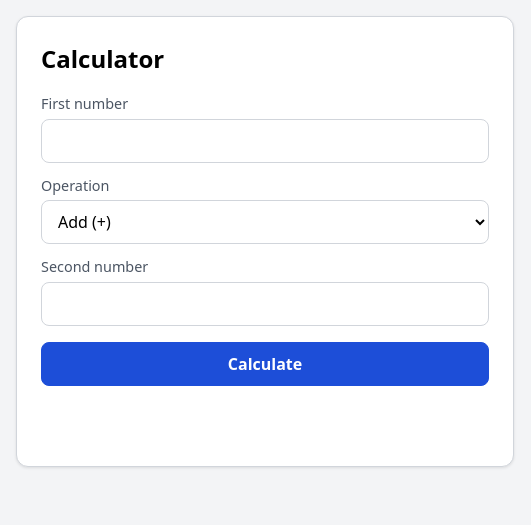
Test case: shows a user-facing message for API error DIVISION_BY_ZERO
The width and height of the screenshot is (531, 525).
Type "1" into the field labelled "First number" at (265,141), box [41,119,489,163]
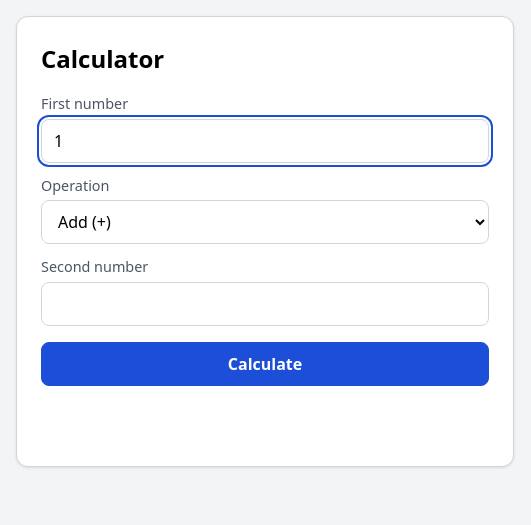
Type "0" into the field labelled "Second number" at (265,304), box [41,282,489,326]
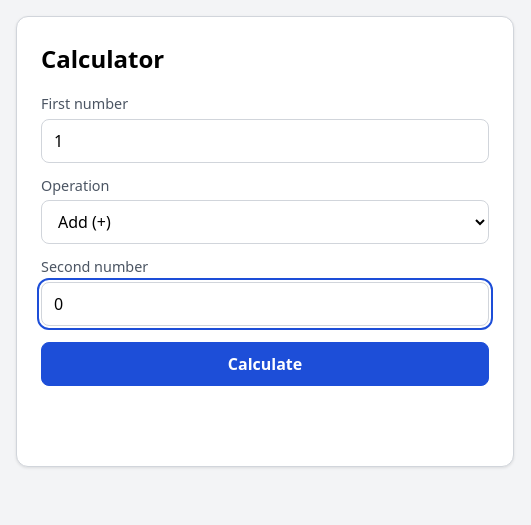
Click the button "Calculate" at (265,364), box [41,342,489,386]
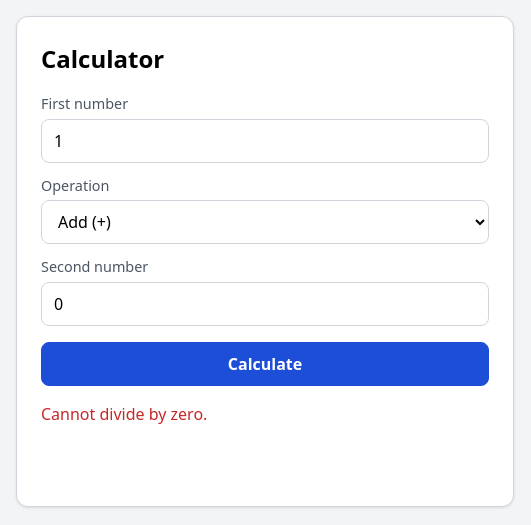
Check: the element named "Result" is empty, box [41,442,489,482]
Check: the message reads "Cannot divide by zero.", box [41,403,207,425]
